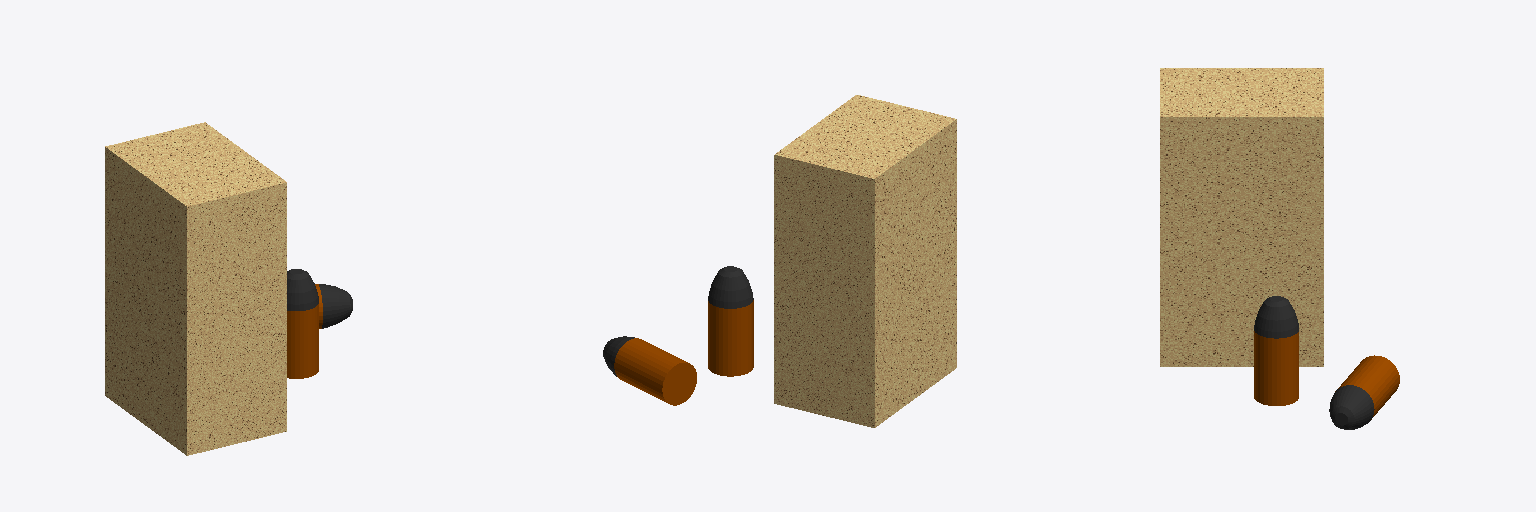
3 views of the same model, side by side, from view 1: azimuth 30°, elevation 25°; view 2: azimuth 150°, elevation 25°; view 3: azimuth 270°, elevation 25° (orthographic).
Visible parts, largest first — view 1: Cube.001, Circle, Circle.001; view 2: Cube.001, Circle, Circle.001; view 3: Cube.001, Circle, Circle.001.
Part boxes in pixels (x1,y1,x2,y2): Cube.001: (105,122,286,455); Circle: (287,269,318,378); Circle.001: (315,284,352,328); Cube.001: (774,95,956,427); Circle: (708,266,753,376); Circle.001: (603,336,696,405); Cube.001: (1160,68,1323,366); Circle: (1254,296,1298,405); Circle.001: (1329,355,1399,429).
Bounding box in the file's own units: 5.98 × 5.52 × 4.82.
Materials: 3 (1 with a texture image).